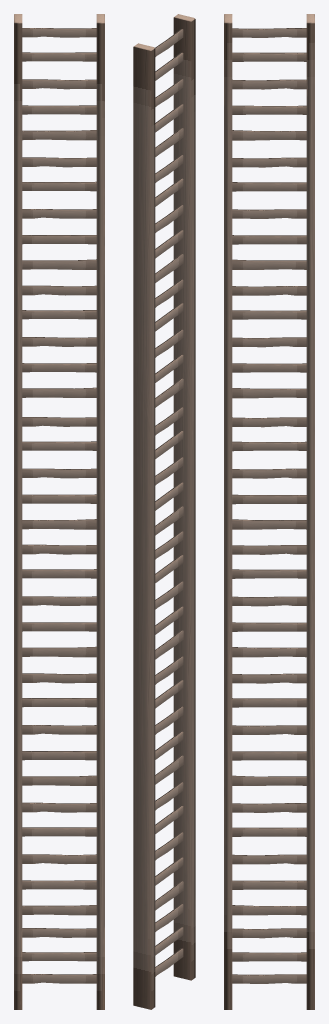
The model's file is SM_LadderChurch.fbx.
3 renders of one model, left to right at view 1: azimuth 90°, elevation 25°; view 2: azimuth 150°, elevation 25°; view 3: azimuth 270°, elevation 25°, orthographic. The views are drawn at different scales.
Visible parts, largest first — view 1: SM_LadderChurch_LOD0; view 2: SM_LadderChurch_LOD0; view 3: SM_LadderChurch_LOD0.
Part boxes in pixels (x1=…): SM_LadderChurch_LOD0: x1=14, y1=14, x2=104, y2=1009; SM_LadderChurch_LOD0: x1=133, y1=14, x2=195, y2=1009; SM_LadderChurch_LOD0: x1=224, y1=14, x2=314, y2=1009.
Size of the model in its own units: 22.04 by 93.85 by 1126.
